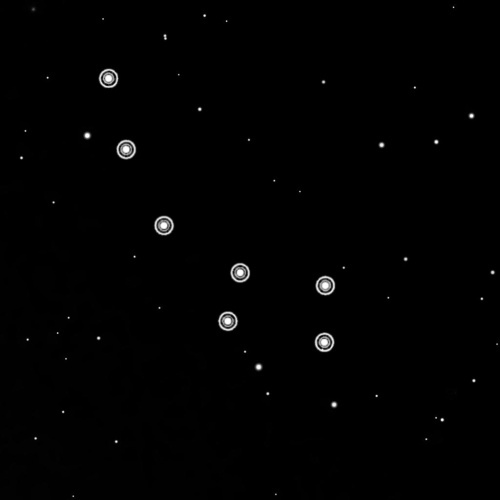ursa_minor: (90, 62, 339, 357)
